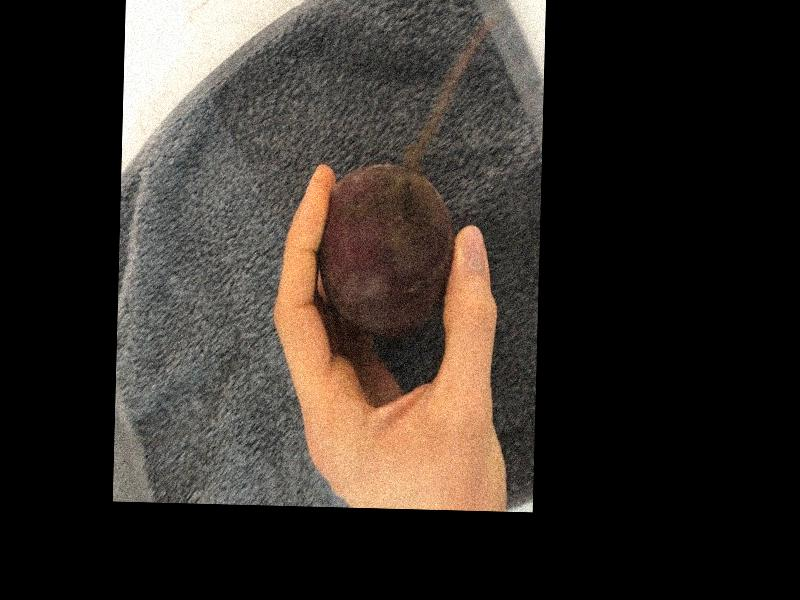Beet: (317, 164, 455, 339)
